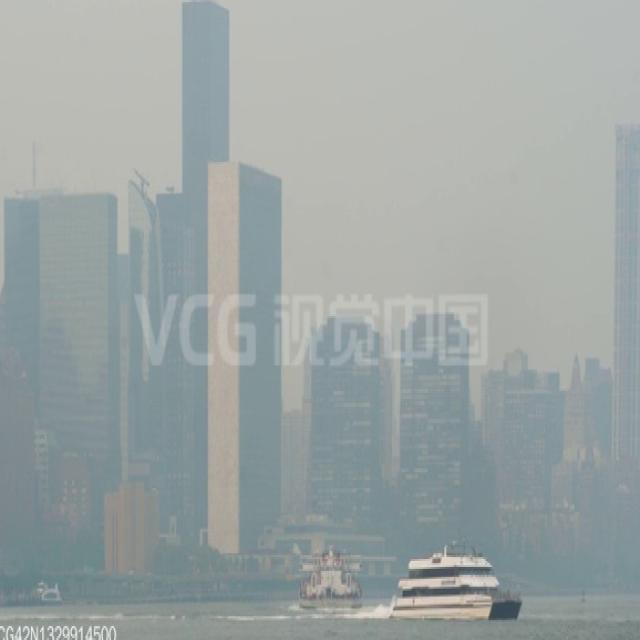houseboat: (34, 581, 63, 602)
passenger ship: (390, 547, 522, 622), (294, 541, 364, 609)
